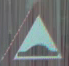Speed Breaker ahead: (4, 2, 63, 62)
